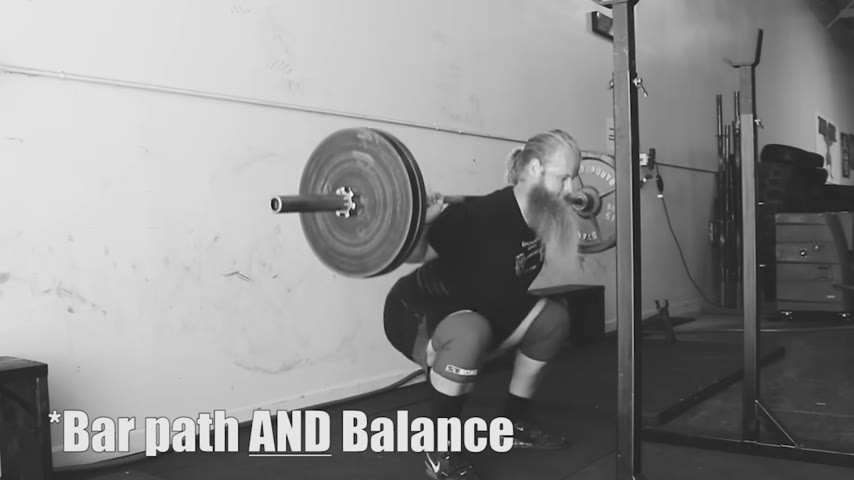barbell_plate_side: (269, 125, 362, 288)
